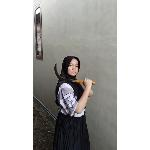Celurit: (52, 61, 99, 87)
